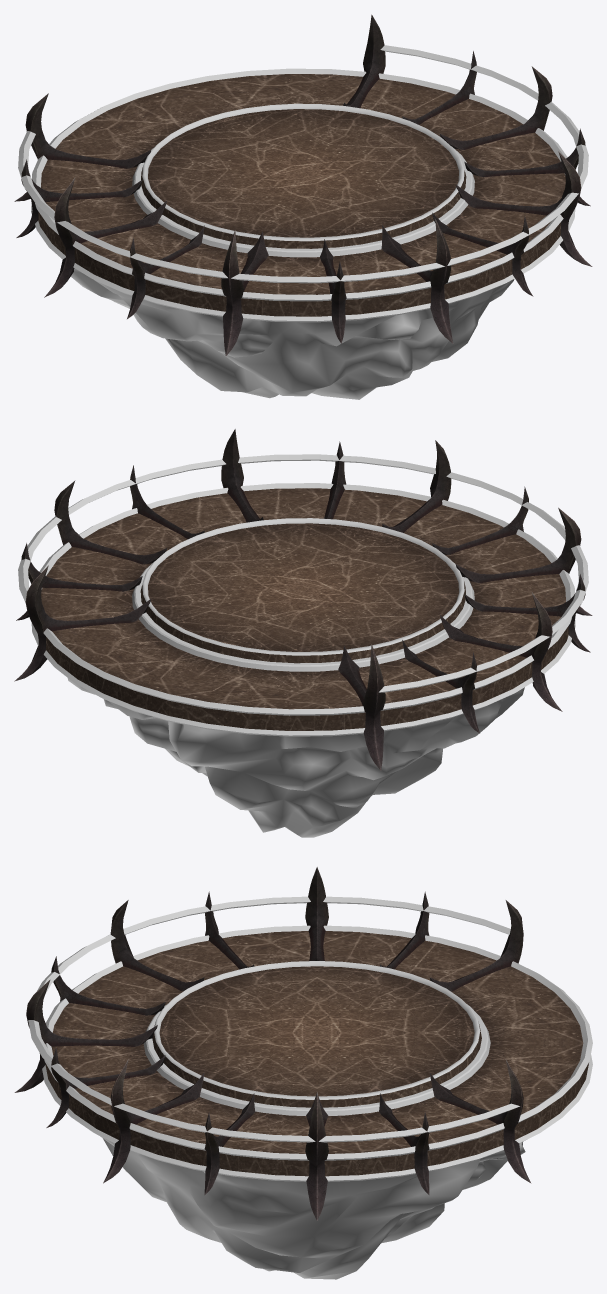
Rendered from lower_city_lift_01_fly_platform.fbx.
The picture shows the model from 3 angles, top to bottom: view 1: azimuth 30°, elevation 25°; view 2: azimuth 150°, elevation 25°; view 3: azimuth 270°, elevation 25°; orthographic projection.
Visible parts, largest first — view 1: lower_city_lift_01_fly_platform; view 2: lower_city_lift_01_fly_platform; view 3: lower_city_lift_01_fly_platform.
Part boxes in pixels (x1=…): lower_city_lift_01_fly_platform: x1=14, y1=14, x2=592, y2=399; lower_city_lift_01_fly_platform: x1=14, y1=429, x2=592, y2=837; lower_city_lift_01_fly_platform: x1=14, y1=867, x2=592, y2=1279.
Size of the model in its own units: 8.24 by 4.15 by 7.87.
